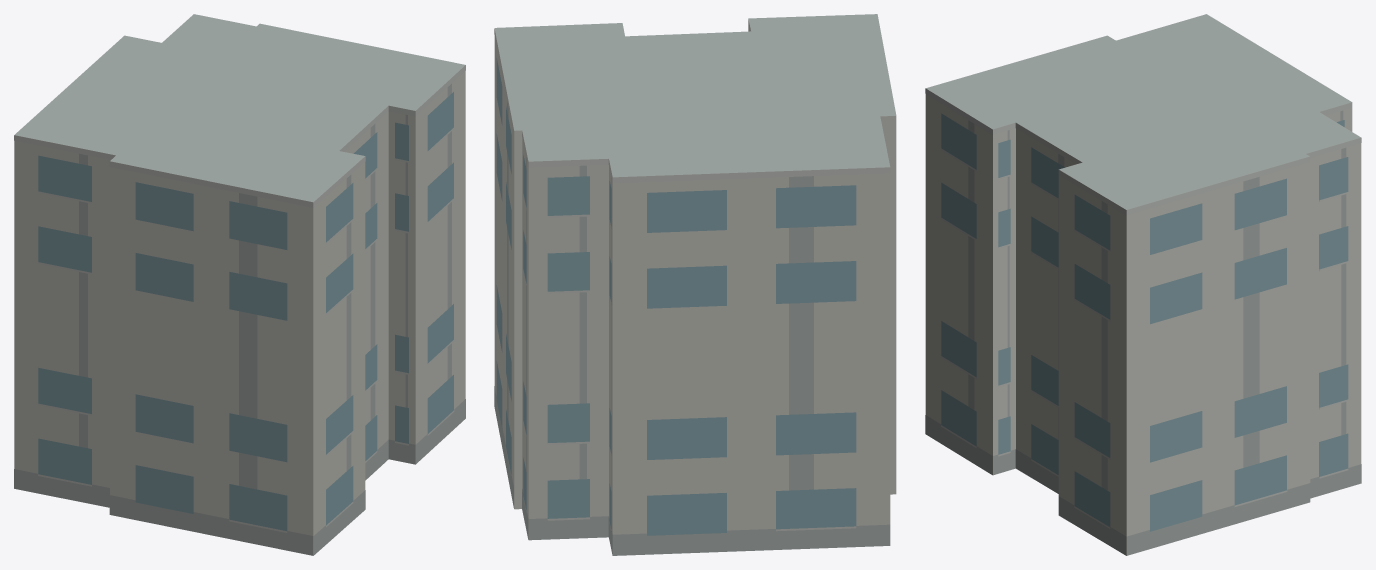
Rendered from survey-upis-32989855.glb.
3 renders of one model, left to right at view 1: azimuth 30°, elevation 25°; view 2: azimuth 150°, elevation 25°; view 3: azimuth 270°, elevation 25°, orthographic. The views are drawn at different scales.
Parts seen in each view (by area): view 1: survey-upis-32989855.tmp; view 2: survey-upis-32989855.tmp; view 3: survey-upis-32989855.tmp.
Part boxes in pixels (bbox=[...]): survey-upis-32989855.tmp: bbox=[14, 14, 465, 555]; survey-upis-32989855.tmp: bbox=[494, 14, 896, 555]; survey-upis-32989855.tmp: bbox=[925, 14, 1361, 555].
Size of the model in its own units: 18.54 by 15.25 by 17.43.
